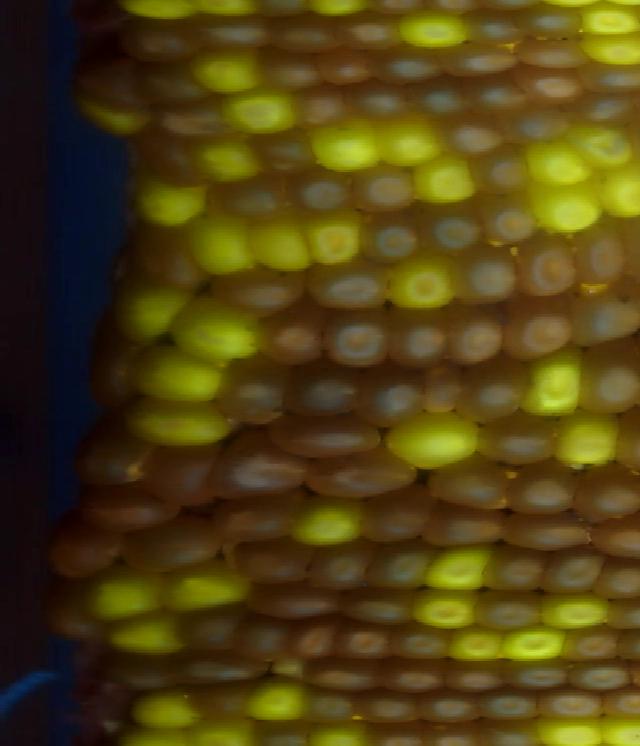fluorescent: (123, 395, 242, 445), (175, 296, 257, 361), (129, 344, 219, 402), (387, 412, 478, 467), (521, 339, 586, 414), (304, 114, 384, 170), (192, 209, 256, 277), (565, 113, 638, 172), (382, 253, 455, 311), (408, 146, 478, 206), (251, 213, 318, 275), (84, 567, 165, 618), (163, 564, 247, 611), (219, 86, 297, 134), (115, 682, 199, 725), (191, 50, 268, 96), (117, 281, 179, 338), (299, 491, 361, 548), (423, 541, 493, 591), (378, 114, 446, 165), (521, 138, 593, 186), (307, 202, 360, 266), (144, 172, 207, 225), (399, 9, 473, 51), (113, 613, 186, 655), (413, 586, 479, 632), (562, 412, 618, 465), (249, 676, 309, 723), (594, 156, 640, 216), (502, 622, 570, 662), (581, 25, 640, 70), (546, 597, 618, 632), (204, 141, 258, 185), (539, 713, 605, 746), (582, 1, 640, 37), (449, 624, 503, 662), (600, 714, 640, 746)
nonfluorescent: (426, 450, 521, 513), (214, 435, 307, 498), (125, 514, 224, 570), (320, 306, 399, 370), (271, 412, 386, 455), (505, 298, 592, 353), (260, 309, 335, 372), (303, 448, 424, 487), (146, 441, 223, 502), (78, 481, 183, 525), (510, 456, 584, 518), (572, 456, 640, 522), (581, 338, 640, 414), (458, 359, 530, 420), (73, 56, 150, 113), (355, 485, 433, 541), (309, 262, 398, 311), (247, 580, 347, 623), (136, 223, 203, 287), (505, 511, 593, 559), (233, 537, 317, 587), (205, 495, 300, 539), (204, 176, 291, 224), (524, 228, 581, 301), (471, 423, 570, 465), (219, 357, 287, 418), (283, 367, 361, 420), (424, 499, 505, 550), (447, 297, 509, 362), (576, 217, 630, 290), (392, 311, 462, 367), (300, 541, 379, 590), (73, 435, 162, 478), (52, 527, 128, 577), (213, 266, 303, 308), (449, 249, 517, 304), (252, 129, 321, 183), (573, 285, 640, 340), (141, 129, 210, 181), (468, 153, 535, 206), (479, 191, 540, 248), (182, 598, 244, 654), (476, 588, 549, 635), (291, 165, 362, 213), (492, 541, 555, 595), (188, 12, 267, 55), (167, 93, 244, 137), (431, 114, 515, 154), (118, 17, 196, 60), (355, 377, 421, 427), (544, 546, 605, 599), (366, 40, 441, 83), (420, 203, 482, 254), (347, 583, 417, 628), (144, 56, 208, 104), (367, 544, 438, 587), (241, 609, 298, 662), (355, 681, 413, 733), (297, 78, 363, 123), (114, 653, 183, 696), (336, 6, 397, 54), (438, 41, 523, 75), (189, 646, 267, 683), (517, 2, 584, 45), (263, 14, 335, 54), (361, 211, 421, 259), (355, 164, 413, 213), (413, 361, 463, 417), (457, 4, 523, 46), (193, 681, 256, 724), (98, 353, 142, 414), (460, 76, 530, 113), (566, 656, 636, 693), (518, 67, 589, 103), (393, 622, 458, 661), (515, 37, 588, 71), (538, 681, 600, 719), (557, 630, 626, 664), (594, 512, 640, 562), (576, 91, 638, 128), (339, 625, 396, 665), (486, 682, 542, 722), (412, 688, 487, 717), (352, 81, 412, 117), (321, 46, 372, 88), (305, 686, 356, 727), (265, 51, 321, 88), (593, 555, 640, 599), (413, 80, 466, 119), (508, 657, 570, 690), (414, 719, 486, 746), (50, 606, 107, 640), (445, 660, 503, 692), (298, 619, 342, 661), (310, 661, 378, 688), (392, 659, 447, 692), (489, 716, 547, 746), (514, 112, 576, 139), (603, 592, 640, 630), (587, 65, 640, 87), (600, 692, 640, 719)
